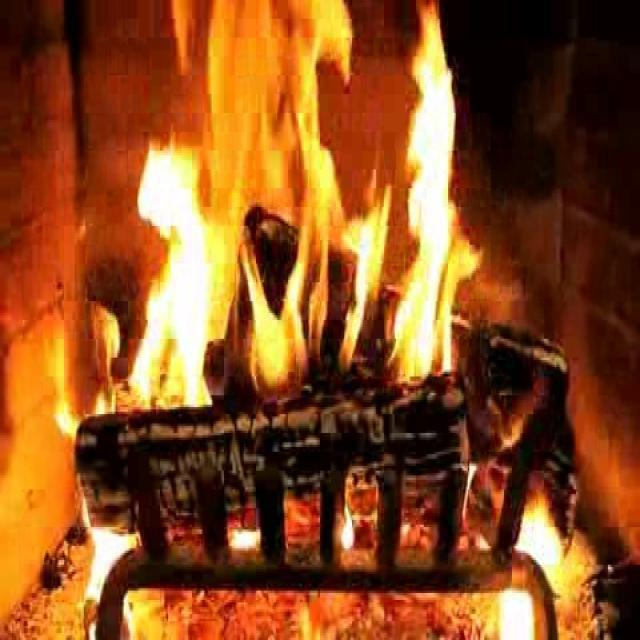Fire: (124, 13, 470, 414)
